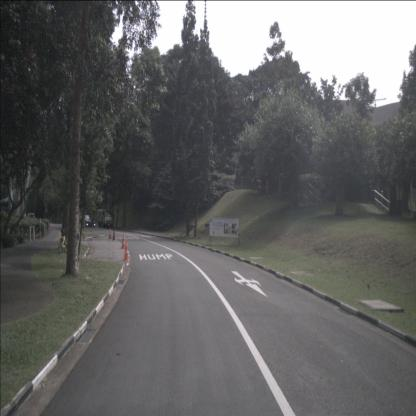movable_object-trafficcone: (123, 240, 130, 261), (121, 232, 126, 249), (108, 227, 112, 238), (113, 228, 116, 240)
vehicle-bicycle: (58, 228, 76, 254)
vehicle-car: (80, 215, 96, 227)
vehicle-truck: (96, 210, 113, 228), (27, 212, 37, 224)
